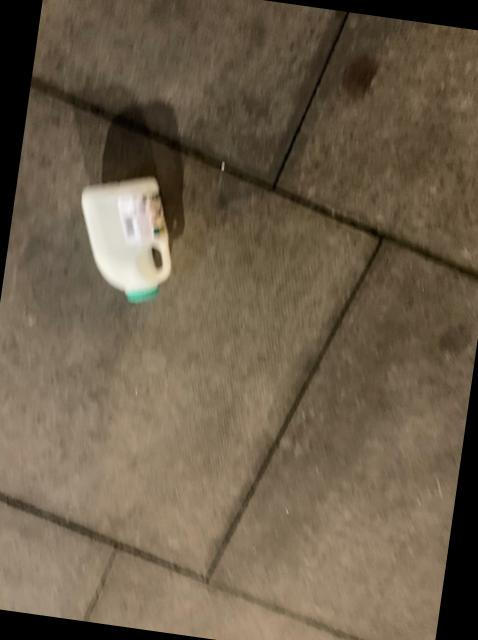plastic: (82, 179, 172, 305)
